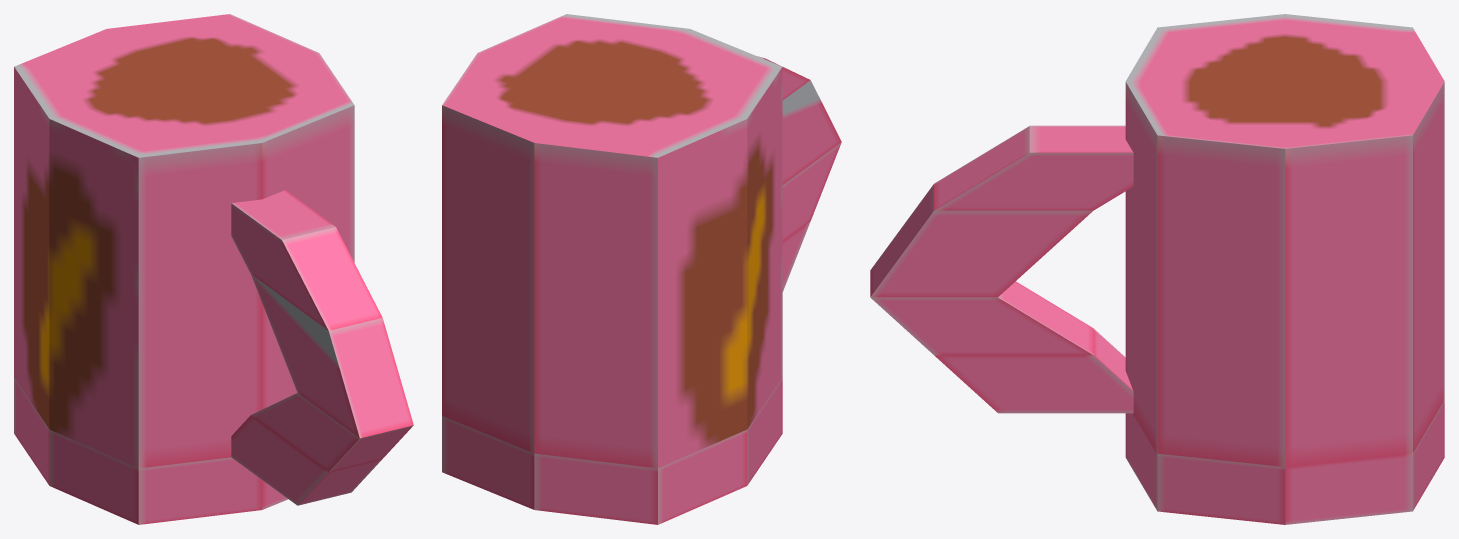
File: coffee_cup.obj
3 views of the same model, side by side, from view 1: azimuth 30°, elevation 25°; view 2: azimuth 150°, elevation 25°; view 3: azimuth 270°, elevation 25° (orthographic). The views are drawn at different scales.
Parts seen in each view (by area): view 1: coffee_cup; view 2: coffee_cup; view 3: coffee_cup.
Part boxes in pixels (x1=…): coffee_cup: x1=14, y1=14, x2=413, y2=524; coffee_cup: x1=442, y1=14, x2=841, y2=524; coffee_cup: x1=870, y1=14, x2=1444, y2=524.
Size of the model in its own units: 2.5 by 3.25 by 4.5.
1 material, 1 textured.
